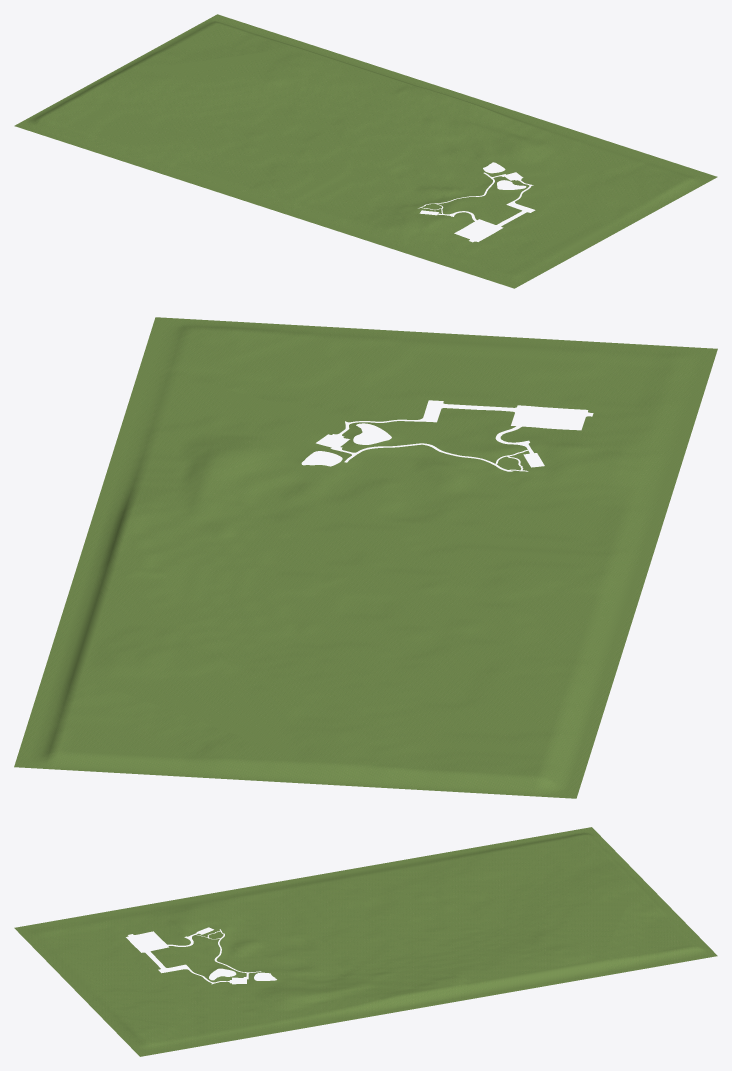
Rendered from landscape.obj.
3 renders of one model, top to bottom at view 1: azimuth 30°, elevation 25°; view 2: azimuth 150°, elevation 25°; view 3: azimuth 270°, elevation 25°, orthographic. The views are drawn at different scales.
Size of the model in its own units: 2384 by 28.96 by 3085.
Materials: 1 (1 with a texture image).
